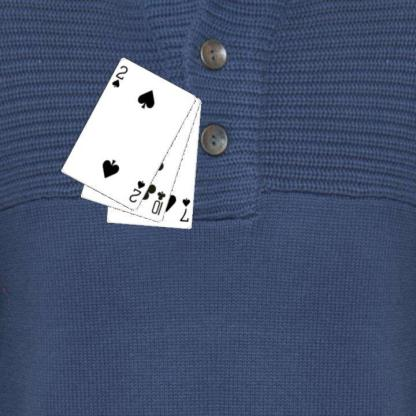10C: (149, 188, 167, 217)
2S: (109, 63, 130, 89), (127, 178, 146, 204)
7S: (178, 196, 192, 223)
